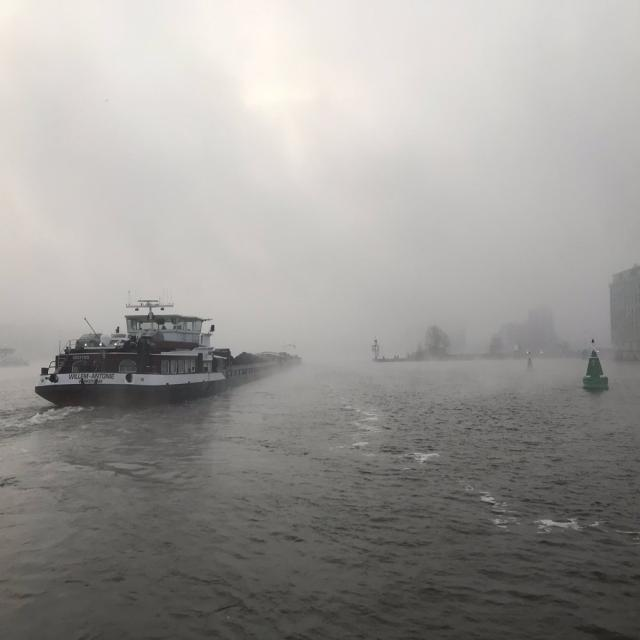buoy: (578, 336, 611, 391), (521, 349, 539, 378)
fishing boat: (33, 302, 304, 398)
